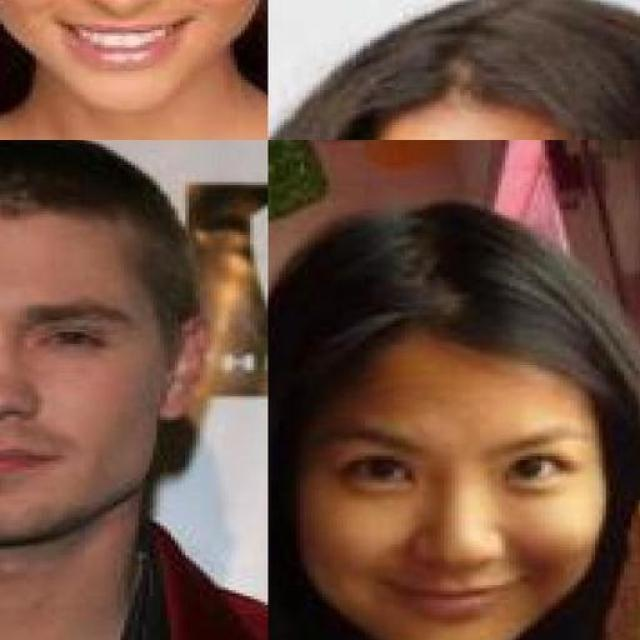bareface: (306, 215, 623, 631)
